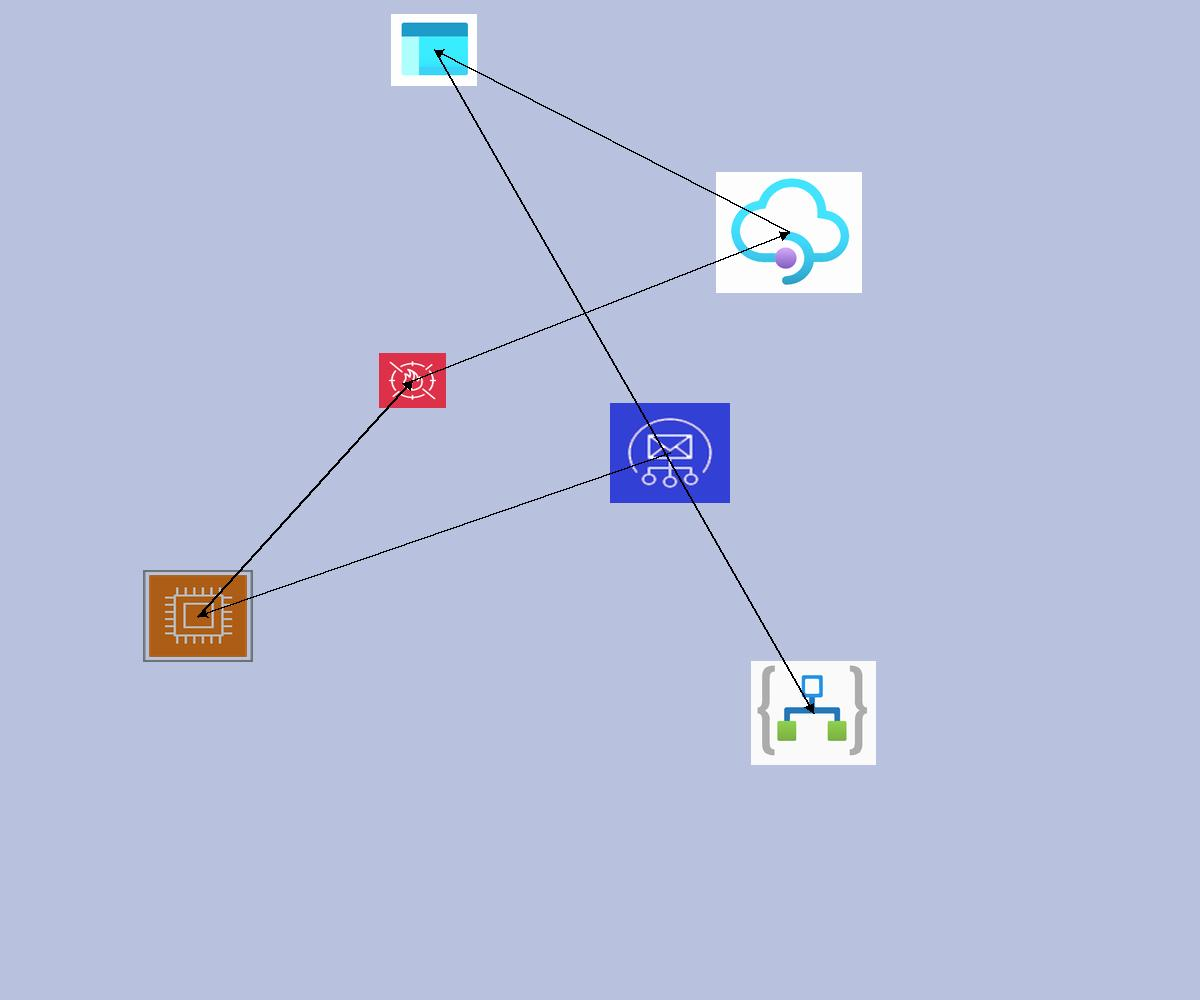AWS-Category_Compute: (143, 570, 253, 662)
AWS-Simple-Email-Service: (610, 403, 730, 503)
AWS-WAF: (379, 353, 446, 408)
Azure_api_gateway: (716, 172, 862, 293)
Azure_integration-204-Logic-Apps: (751, 661, 876, 765)
Azure_management-portal: (391, 14, 477, 86)
